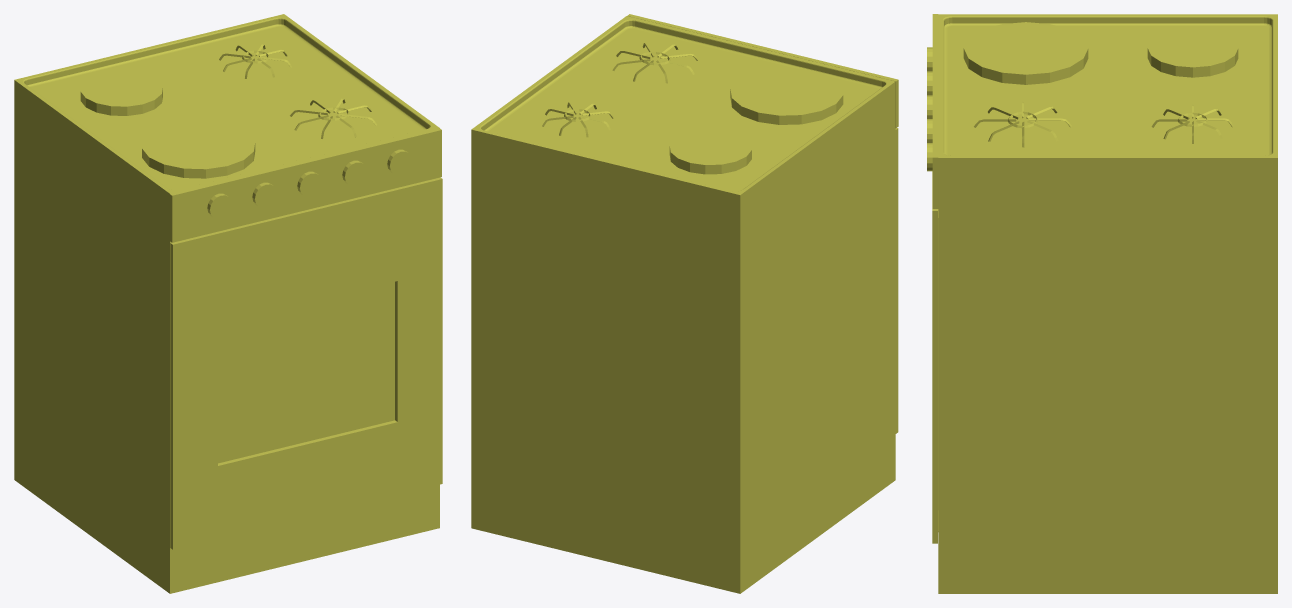
The model's file is eteks-cooker.glb.
3 views of the same model, side by side, from view 1: azimuth 30°, elevation 25°; view 2: azimuth 150°, elevation 25°; view 3: azimuth 270°, elevation 25° (orthographic). The views are drawn at different scales.
Visible parts, largest first — view 1: Corps, sweethome3d_opening_on_hinge_1_door, sweethome3d_opening_on_hinge_1_window, Panneau, Feu_1, Feu, Feu_3, Feu_4; view 2: Corps, Feu_1, Feu, sweethome3d_opening_on_hinge_1_door, Panneau, Feu_3, Feu_4; view 3: Corps, Feu_1, Feu, sweethome3d_opening_on_hinge_1_door, Panneau, Feu_3, Feu_4.
Boxes of the visible parts, x1=… form: Corps: x1=14, y1=14, x2=439, y2=593; sweethome3d_opening_on_hinge_1_door: x1=170, y1=177, x2=442, y2=549; sweethome3d_opening_on_hinge_1_window: x1=218, y1=281, x2=394, y2=463; Panneau: x1=169, y1=128, x2=441, y2=242; Feu_1: x1=142, y1=121, x2=255, y2=178; Feu: x1=80, y1=72, x2=162, y2=115; Feu_3: x1=290, y1=98, x2=376, y2=138; Feu_4: x1=219, y1=44, x2=291, y2=78; Corps: x1=471, y1=16, x2=895, y2=593; Feu_1: x1=730, y1=68, x2=843, y2=124; Feu: x1=669, y1=130, x2=751, y2=174; sweethome3d_opening_on_hinge_1_door: x1=895, y1=128, x2=898, y2=433; Panneau: x1=627, y1=14, x2=898, y2=127; Feu_3: x1=612, y1=43, x2=698, y2=83; Feu_4: x1=542, y1=102, x2=613, y2=137; Corps: x1=938, y1=14, x2=1277, y2=593; Feu_1: x1=963, y1=22, x2=1088, y2=84; Feu: x1=1147, y1=29, x2=1238, y2=77; sweethome3d_opening_on_hinge_1_door: x1=932, y1=171, x2=938, y2=543; Panneau: x1=932, y1=14, x2=938, y2=208; Feu_3: x1=974, y1=102, x2=1071, y2=147; Feu_4: x1=1151, y1=105, x2=1233, y2=143.
Size of the model in its own units: 59.64 by 85 by 61.53.
